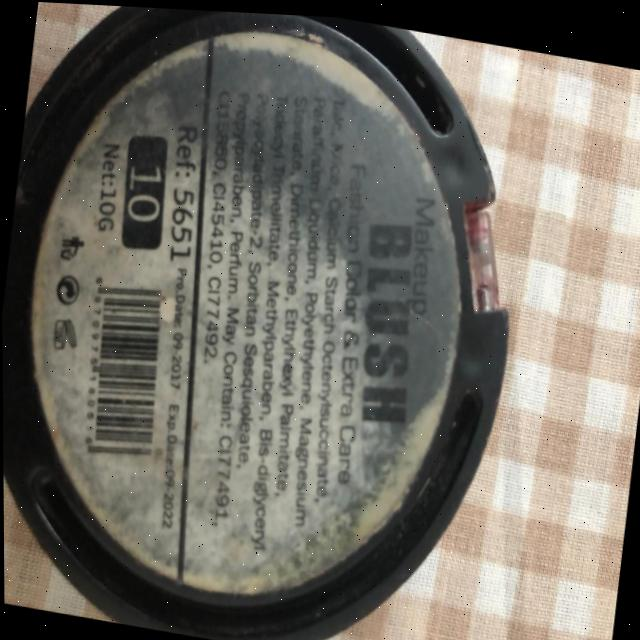blush: (0, 0, 562, 640)
